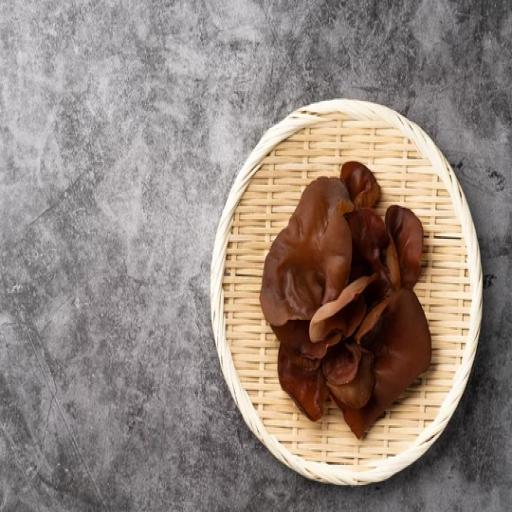Wood Ear Mushroom: (264, 164, 436, 438)
